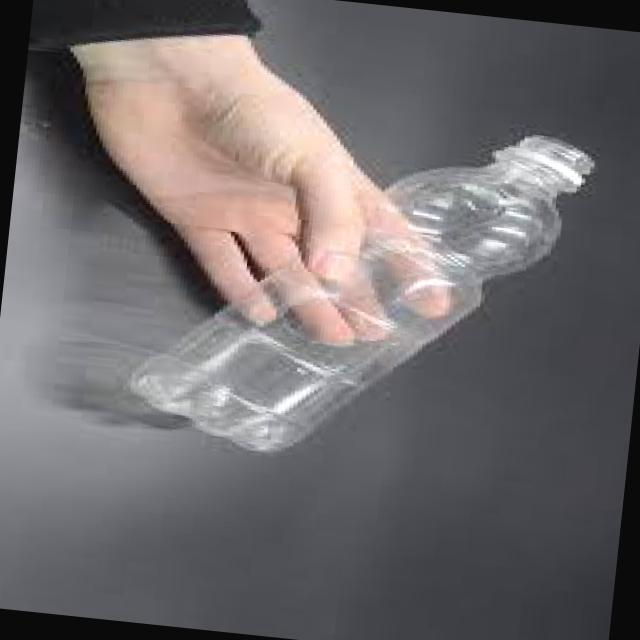bottle: (130, 137, 593, 451)
